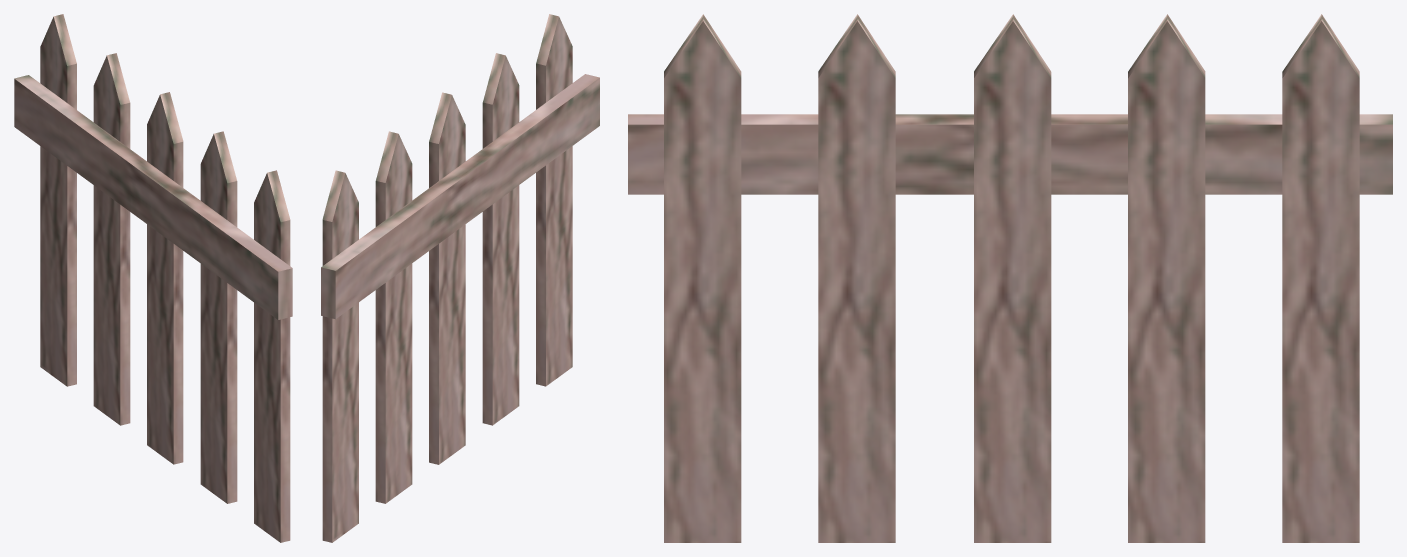
The model's file is Fence.fbx.
3 renders of one model, left to right at view 1: azimuth 30°, elevation 25°; view 2: azimuth 150°, elevation 25°; view 3: azimuth 270°, elevation 25°, orthographic. The views are drawn at different scales.
Parts seen in each view (by area): view 1: Fence; view 2: Fence; view 3: Fence.
Boxes of the visible parts, x1,y1,x2,y2 form: Fence: (14,14,292,542); Fence: (321,14,599,542); Fence: (628,14,1392,542).
Bounding box in the file's own units: 0.5335 × 7.45 × 9.89.
1 material, 1 textured.
